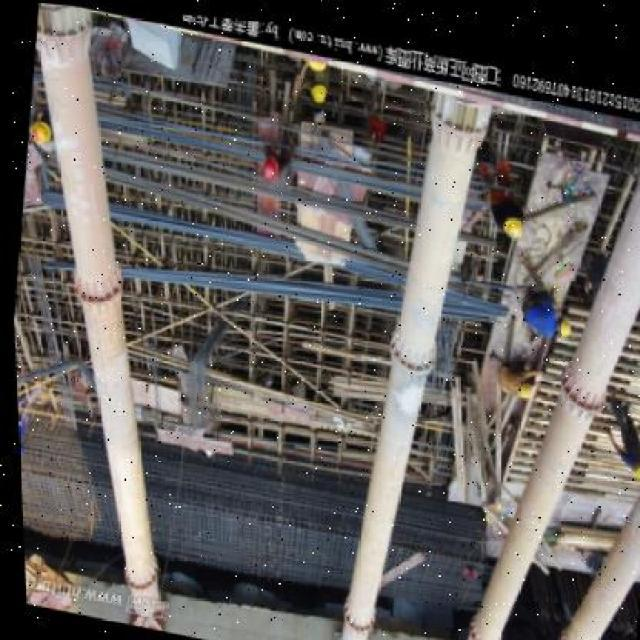helmet: (494, 197, 528, 237), (251, 139, 281, 184), (546, 297, 572, 329)
